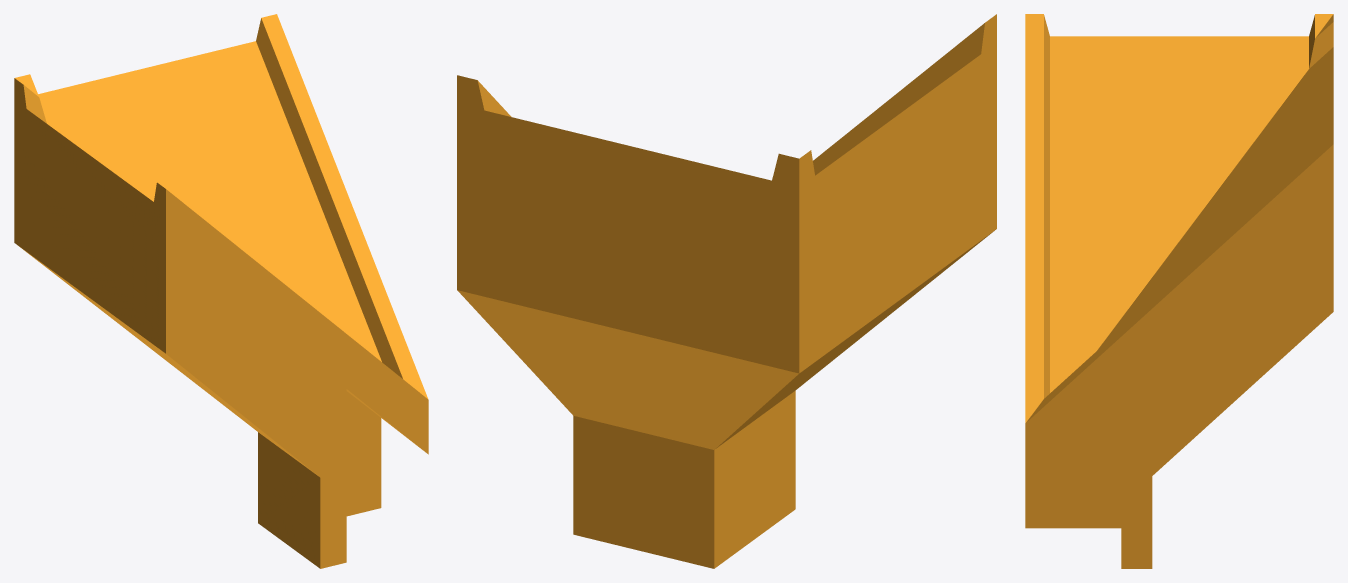
File: SM_Roof_Metal_Regular_Edge_Corner_B.fbx
The picture shows the model from 3 angles, left to right: view 1: azimuth 30°, elevation 25°; view 2: azimuth 150°, elevation 25°; view 3: azimuth 270°, elevation 25°; orthographic projection. The views are drawn at different scales.
Visible parts, largest first — view 1: roof-metal-regular-edge-corner-b; view 2: roof-metal-regular-edge-corner-b; view 3: roof-metal-regular-edge-corner-b.
Boxes of the visible parts, x1,y1,x2,y2 form: roof-metal-regular-edge-corner-b: [14, 14, 428, 568]; roof-metal-regular-edge-corner-b: [457, 14, 996, 568]; roof-metal-regular-edge-corner-b: [1025, 14, 1333, 568].
Bounding box in the file's own units: 0.5 × 0.7602 × 0.5.
